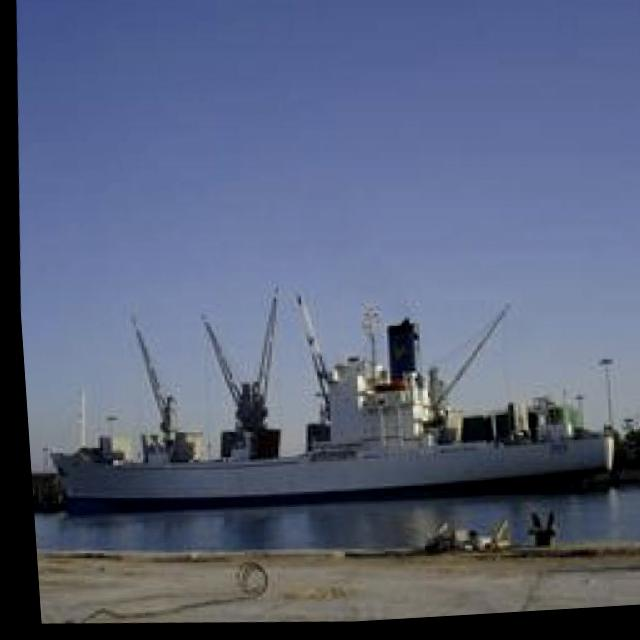ship2: (39, 286, 609, 517)
